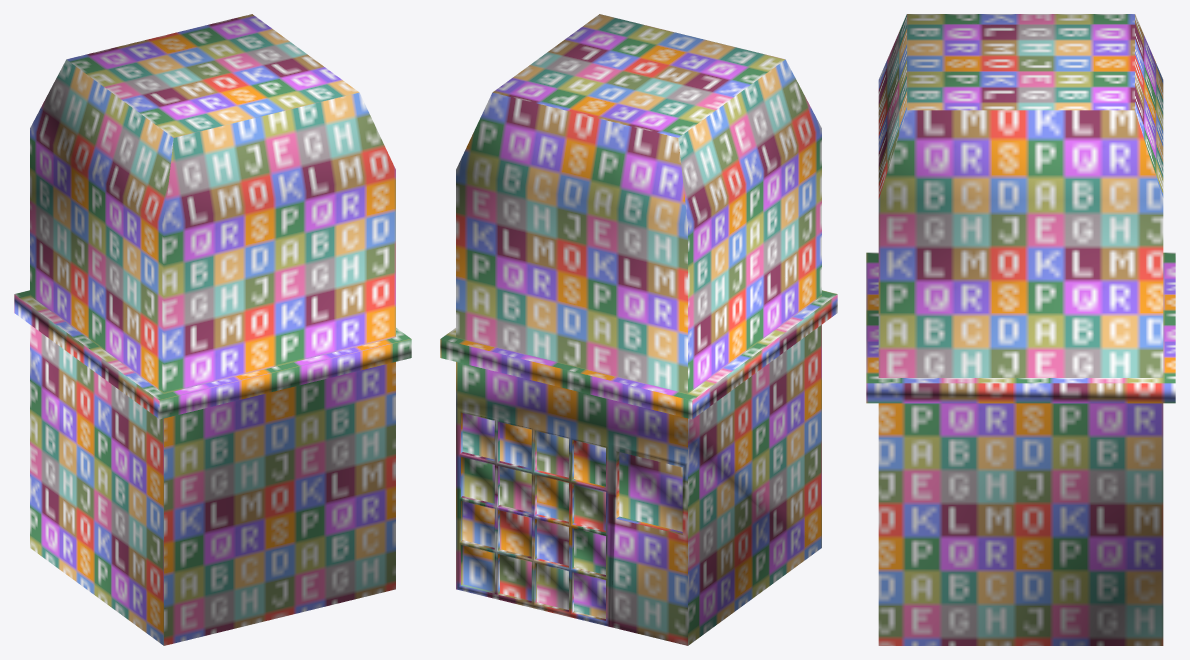
File: building_16.obj
The picture shows the model from 3 angles, left to right: view 1: azimuth 30°, elevation 25°; view 2: azimuth 150°, elevation 25°; view 3: azimuth 270°, elevation 25°; orthographic projection. The views are drawn at different scales.
Parts seen in each view (by area): view 1: Cube3_copy14; view 2: Cube3_copy14; view 3: Cube3_copy14.
Boxes of the visible parts, x1,y1,x2,y2 form: Cube3_copy14: (14, 14, 411, 645); Cube3_copy14: (440, 14, 837, 645); Cube3_copy14: (866, 14, 1175, 645).
Bounding box in the file's own units: 298 × 556 × 298.
Materials: 1 (1 with a texture image).
